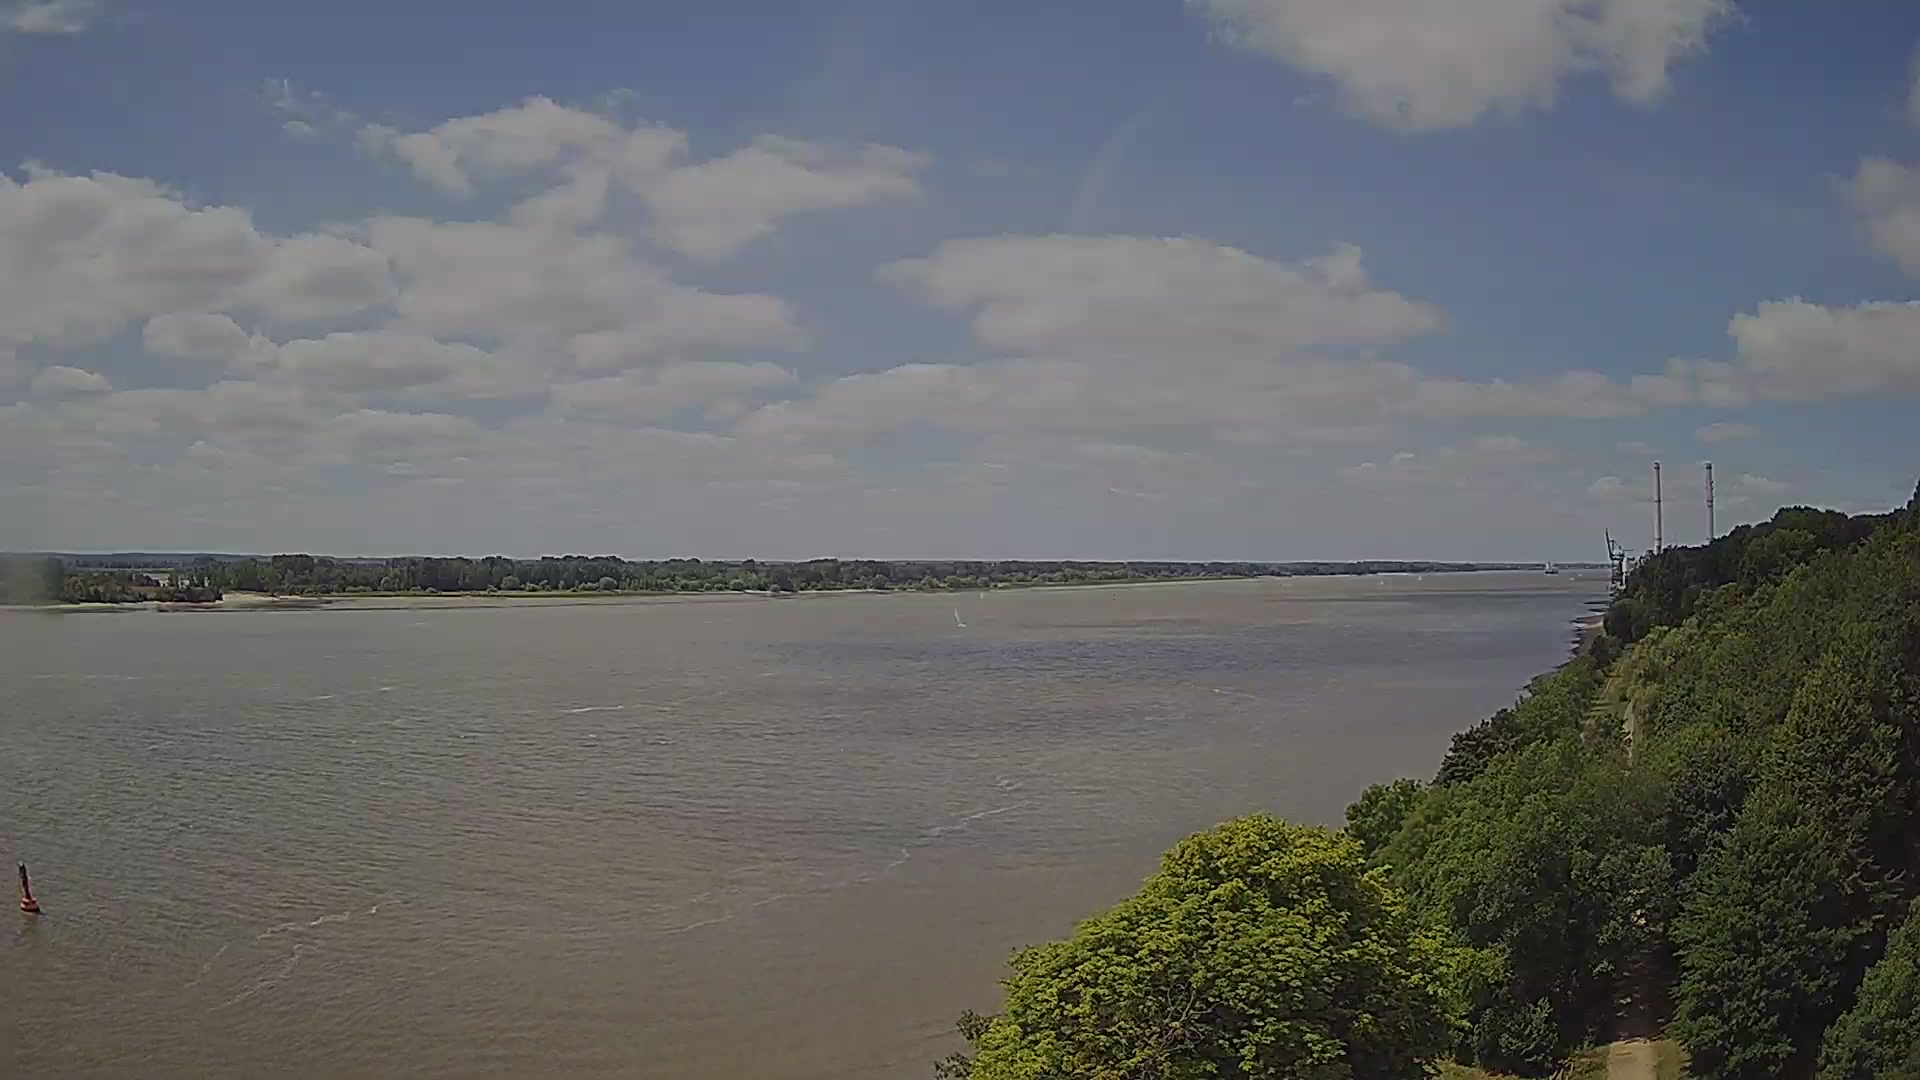sea: (952, 607, 965, 628), (1544, 559, 1560, 575), (1418, 574, 1423, 582)
